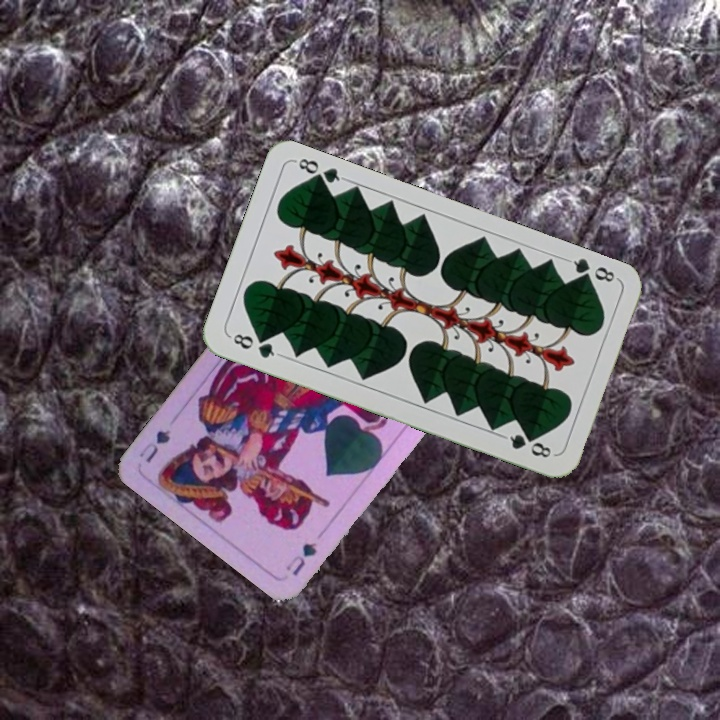G8: (563, 254, 620, 287), (226, 329, 283, 361)
GU: (282, 538, 320, 579)
